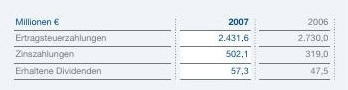table: (0, 0, 348, 90)
